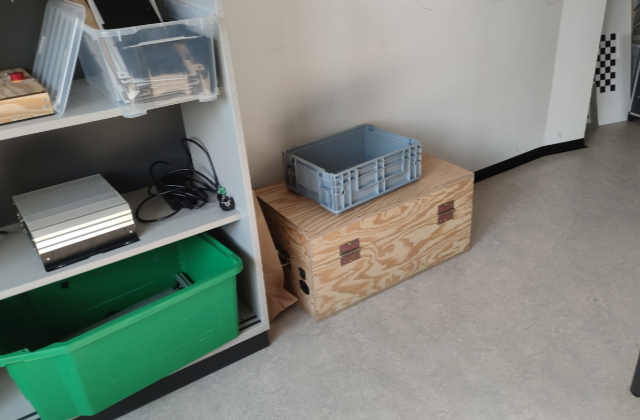Box: (280, 122, 423, 217)
